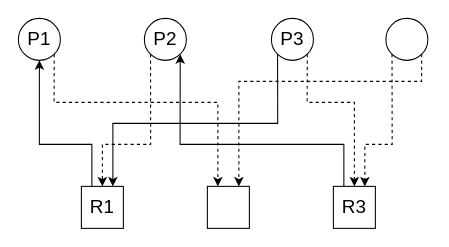
Image size: 449x247. Some labels were removed from this diagram. The box of each missing label's shape, as (x1, y1, x2, y2) in pixels:
P4: (385, 17, 428, 60)
R2: (206, 185, 249, 228)
